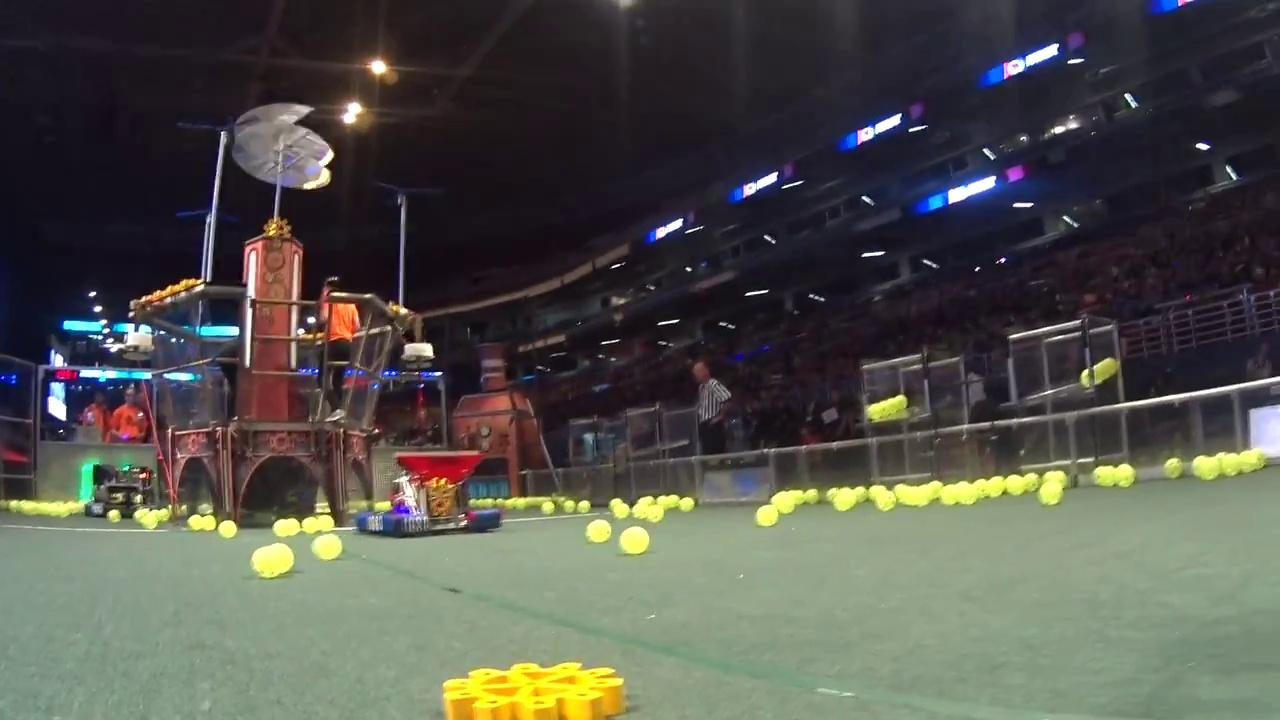robot: (349, 443, 508, 536), (83, 458, 157, 523)
